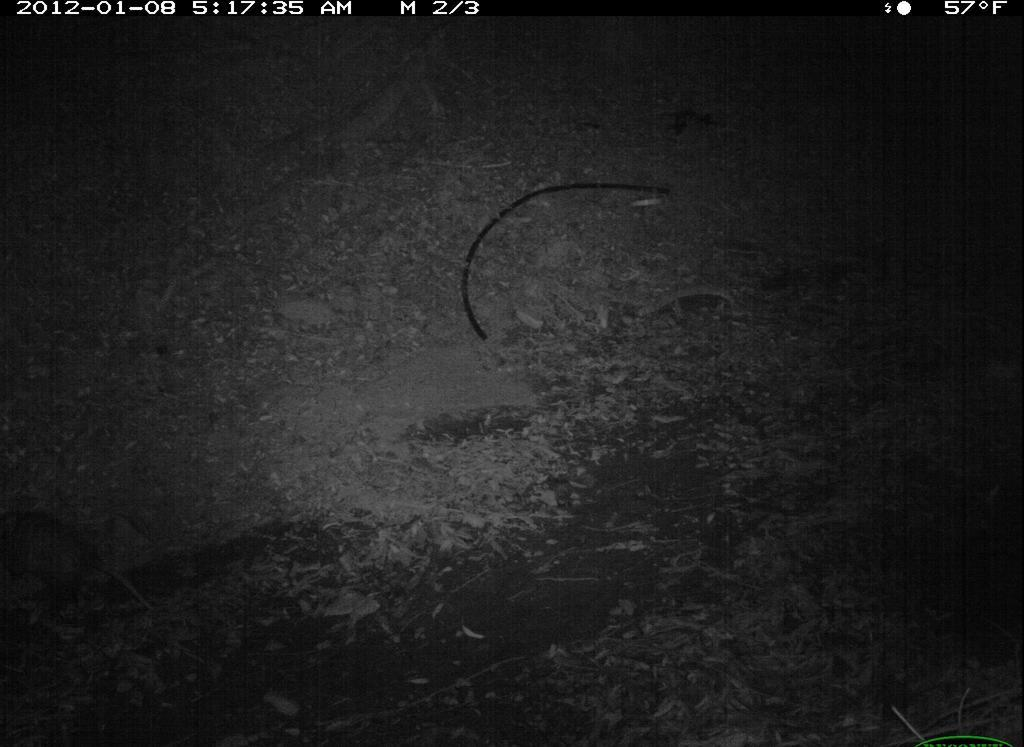opossum: (4, 484, 175, 666)
